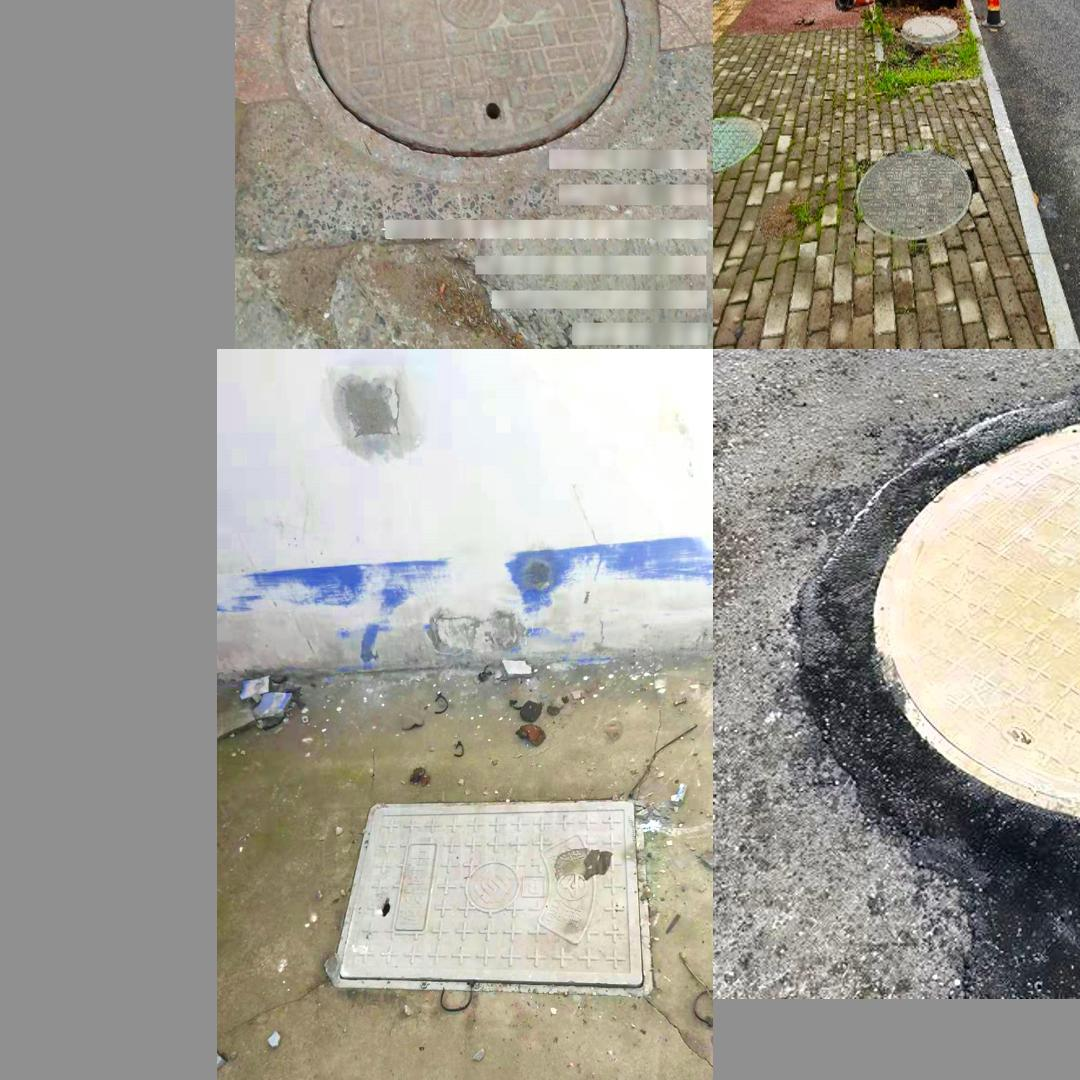good: (777, 371, 1080, 930), (275, 0, 640, 180), (328, 797, 654, 997), (856, 149, 972, 238), (714, 113, 762, 175)
